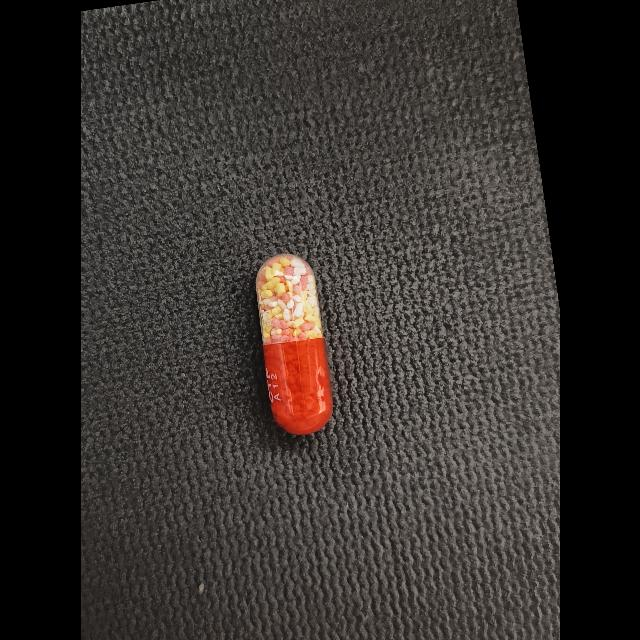Intact Capsule: (255, 254, 333, 434)
